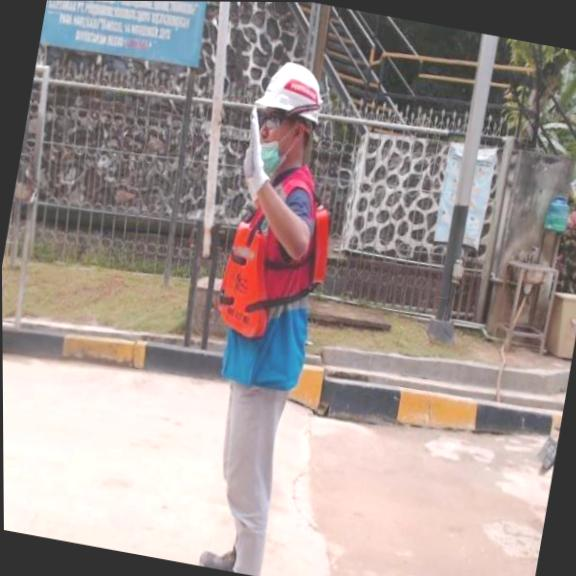safety_vest: (208, 190, 343, 351)
